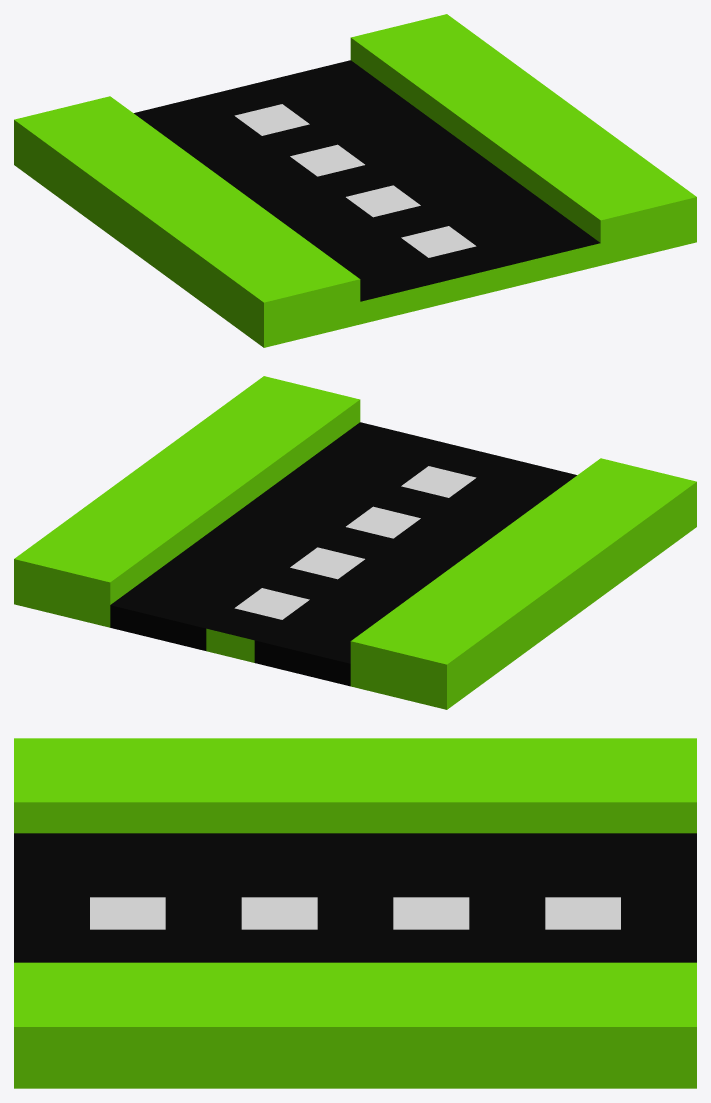
Rendered from RoadStright.fbx.
The picture shows the model from 3 angles, top to bottom: view 1: azimuth 30°, elevation 25°; view 2: azimuth 150°, elevation 25°; view 3: azimuth 270°, elevation 25°; orthographic projection. The views are drawn at different scales.
Parts seen in each view (by area): view 1: Stright; view 2: Stright; view 3: Stright.
Boxes of the visible parts, x1=… form: Stright: x1=14, y1=14, x2=696, y2=347; Stright: x1=14, y1=376, x2=696, y2=709; Stright: x1=14, y1=738, x2=696, y2=1088.
Bounding box in the file's own units: 10 × 1 × 10.
